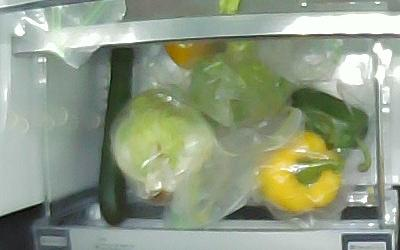broccoli_vinyl: (187, 38, 291, 124)
cucumber: (96, 46, 133, 226)
lettuce_vinyl: (110, 88, 216, 206)
paprika_vinyl: (258, 130, 344, 213), (292, 88, 372, 173)
persimmon_vinyl: (163, 41, 216, 70)
